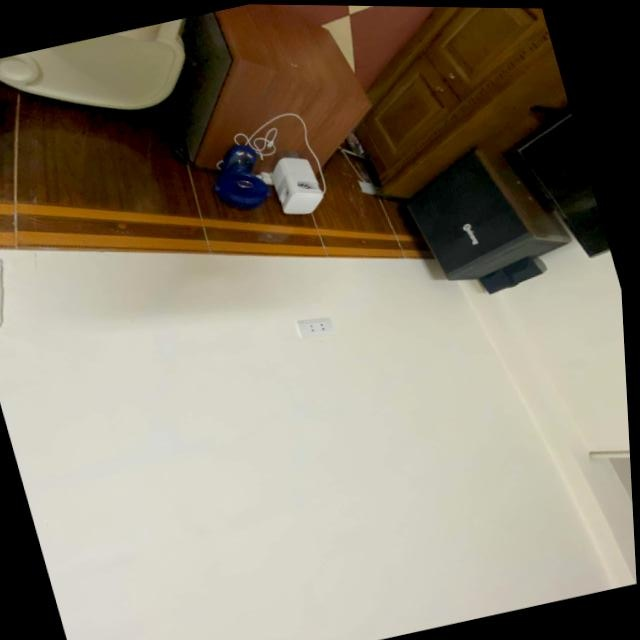outlet: (294, 314, 335, 342)
